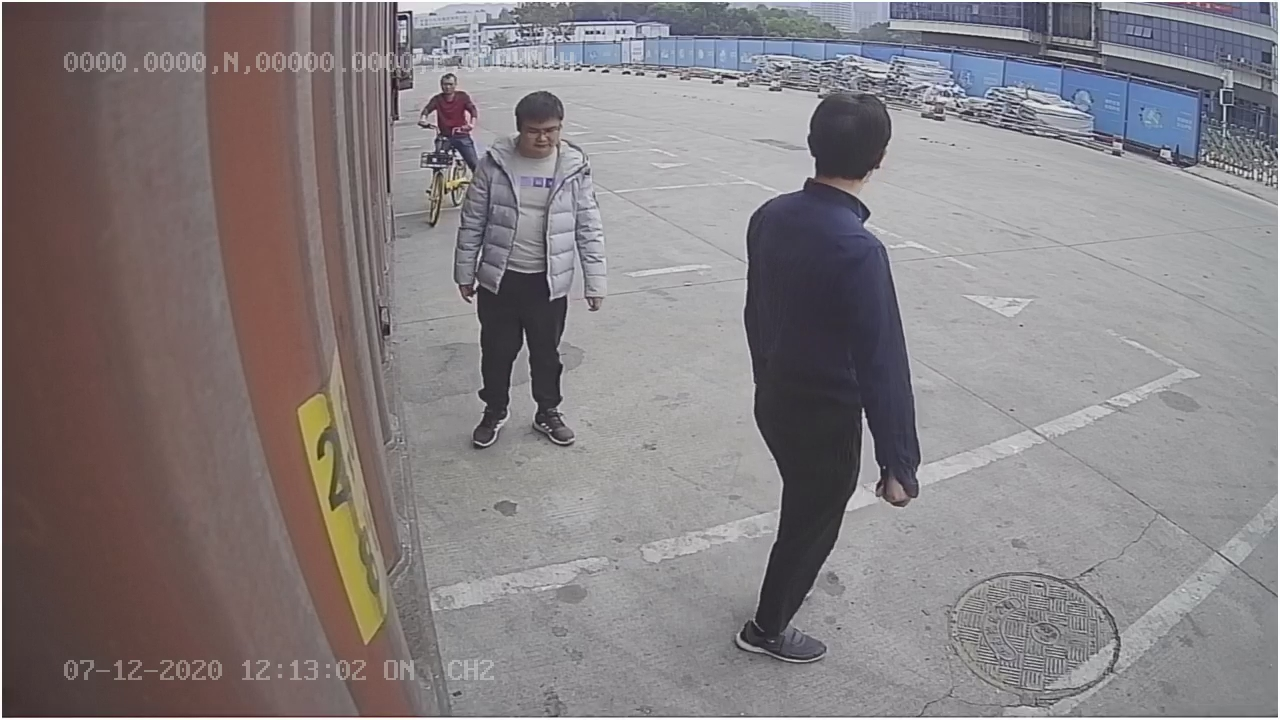person: (730, 77, 931, 666)
